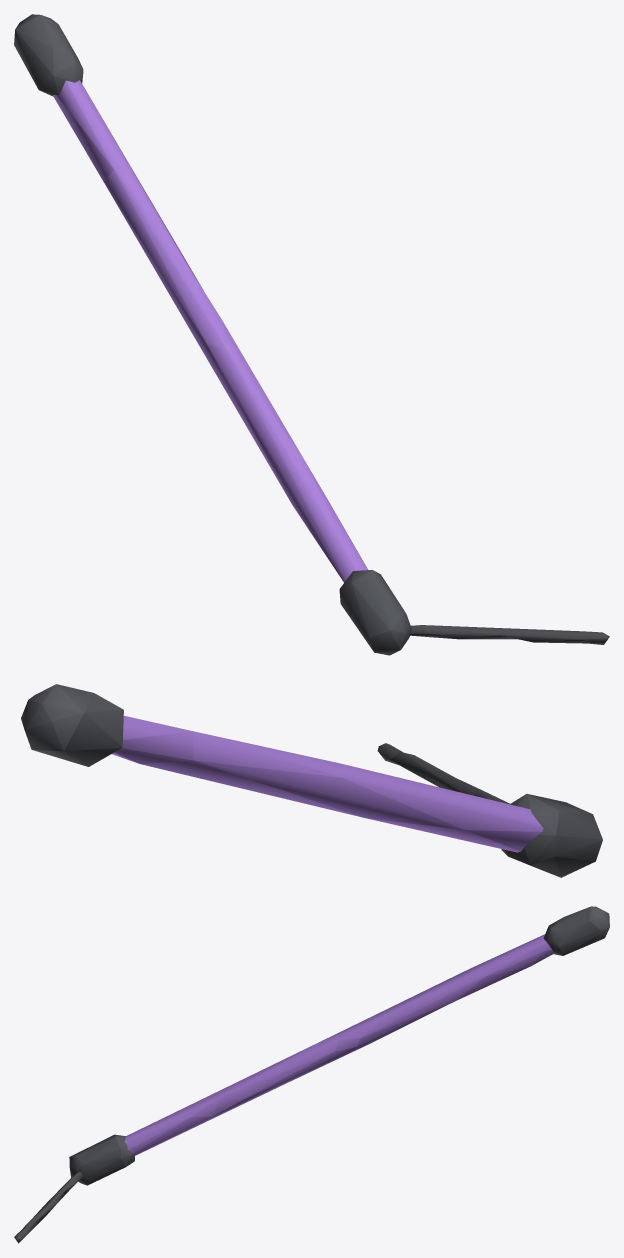
File: neon_tube_v.glb
The picture shows the model from 3 angles, top to bottom: view 1: azimuth 30°, elevation 25°; view 2: azimuth 150°, elevation 25°; view 3: azimuth 270°, elevation 25°; orthographic projection. The views are drawn at different scales.
Visible parts, largest first — view 1: neon_tube_v_glow, neon_tube_v; view 2: neon_tube_v_glow, neon_tube_v; view 3: neon_tube_v_glow, neon_tube_v.
Part boxes in pixels (box(x1,y1,x2,y2)): neon_tube_v_glow: box(52, 80, 367, 582); neon_tube_v: box(14, 14, 609, 655); neon_tube_v_glow: box(112, 715, 543, 852); neon_tube_v: box(21, 684, 602, 877); neon_tube_v_glow: box(124, 934, 554, 1155); neon_tube_v: box(14, 906, 609, 1243).
Bounding box in the file's own units: 0.289 × 0.5359 × 1.04.
